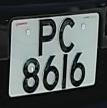1: (59, 52, 71, 91)
6: (41, 54, 62, 92), (68, 51, 88, 89)
8: (17, 55, 43, 95)
C: (55, 14, 79, 55)
P: (34, 16, 59, 58)
